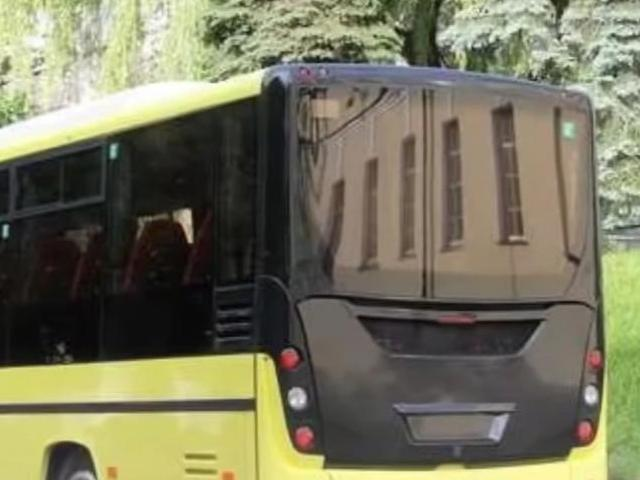bus: (0, 51, 618, 480)
